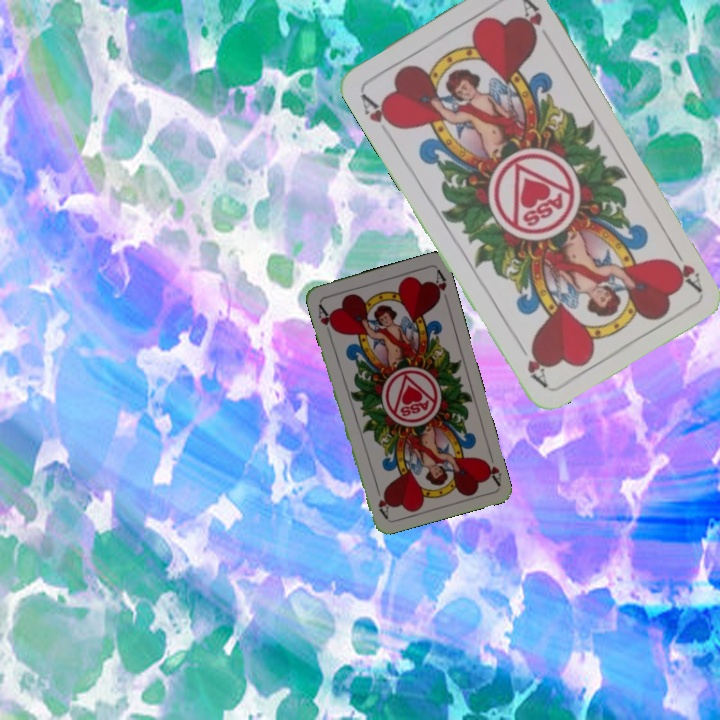HA: (667, 240, 705, 294), (356, 88, 401, 132), (479, 447, 504, 487), (314, 300, 338, 338)
